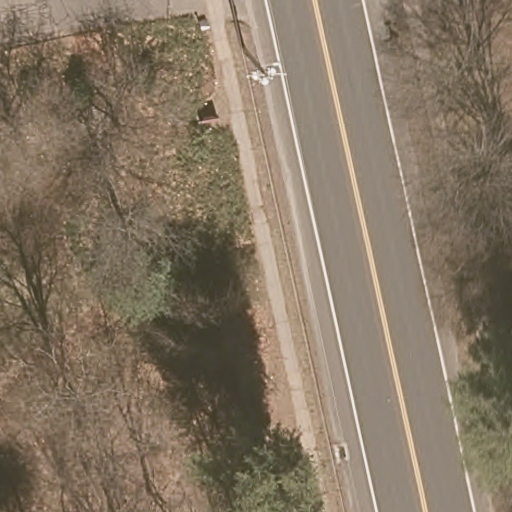DT: (245, 47, 287, 88)
